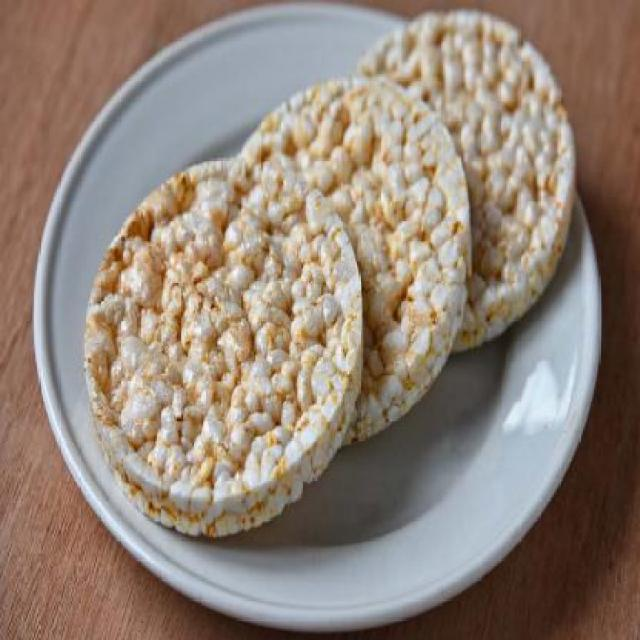Gallette di riso packaged: (84, 154, 363, 536), (239, 72, 478, 450), (364, 10, 578, 339)
